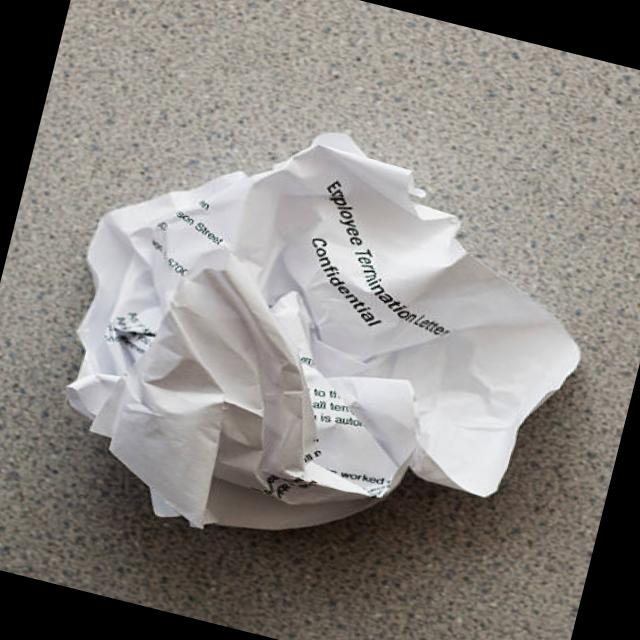electronic: (27, 78, 619, 608)
